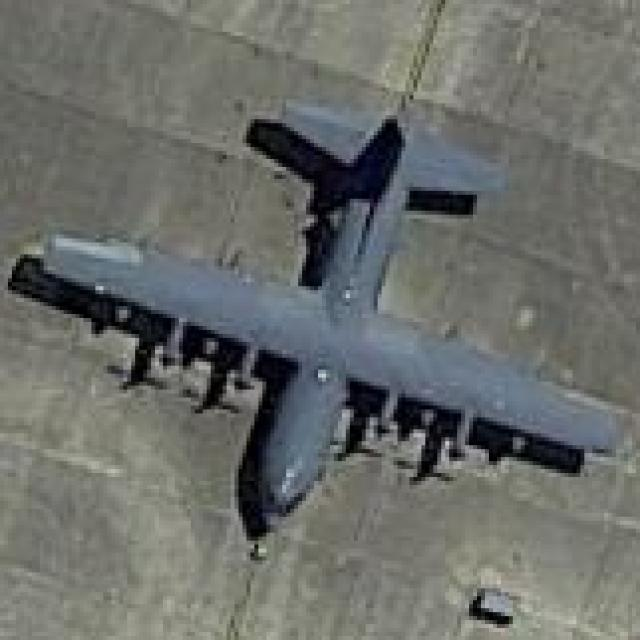C-130_TopDown: (5, 91, 626, 551)
